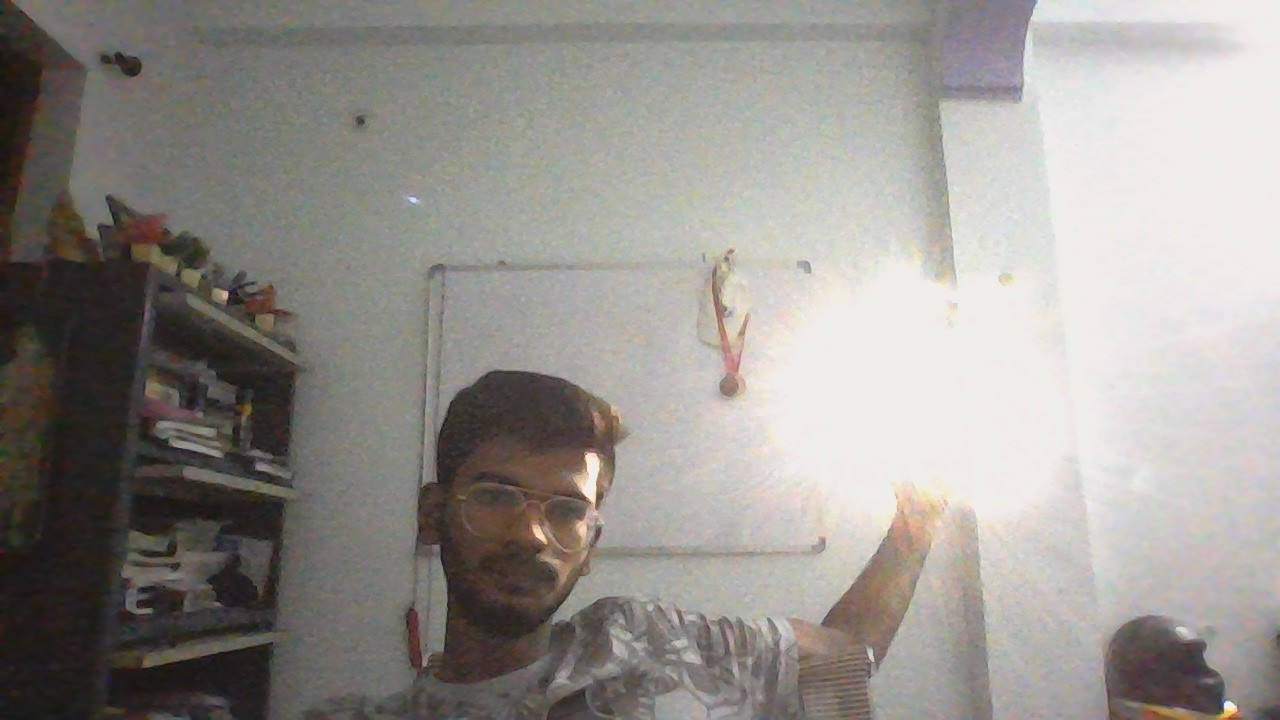Glare: (764, 280, 1043, 505)
